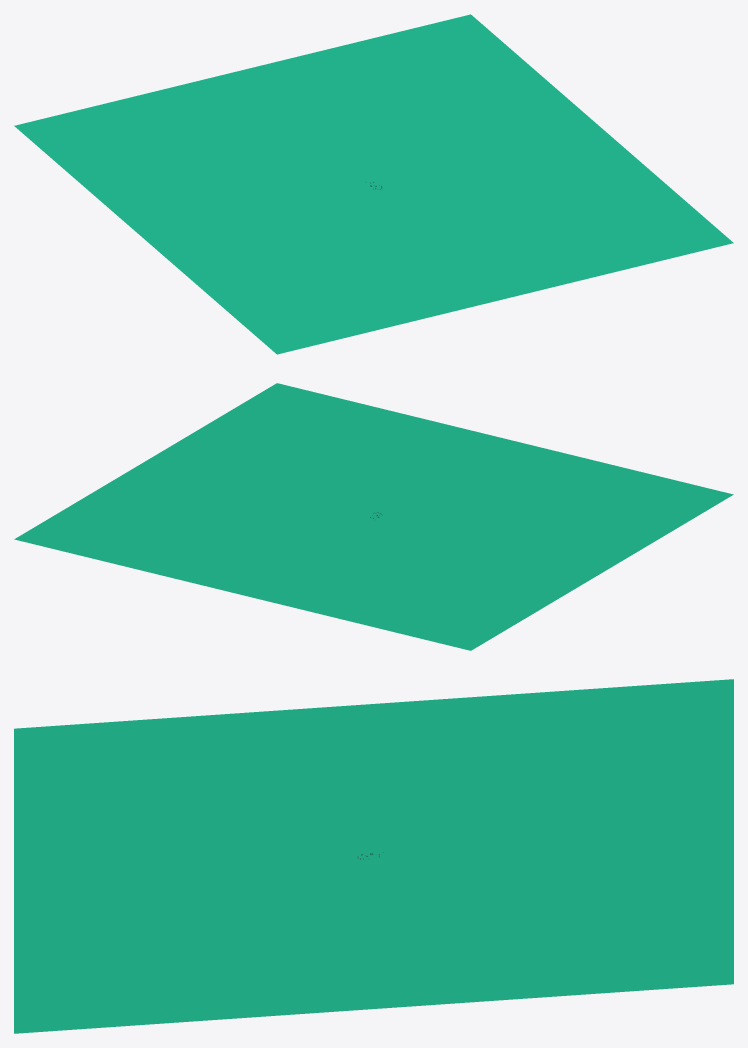
File: Map2.fbx
The picture shows the model from 3 angles, top to bottom: view 1: azimuth 30°, elevation 25°; view 2: azimuth 150°, elevation 25°; view 3: azimuth 270°, elevation 25°; orthographic projection. The views are drawn at different scales.
Visible parts, largest first — view 1: Fog; view 2: Fog; view 3: Fog.
Part boxes in pixels (x1,y1,x2,y2): Fog: (14,14,733,354); Fog: (14,383,733,650); Fog: (14,679,733,1033).
Size of the model in its own units: 100000 by 7567 by 99713.
